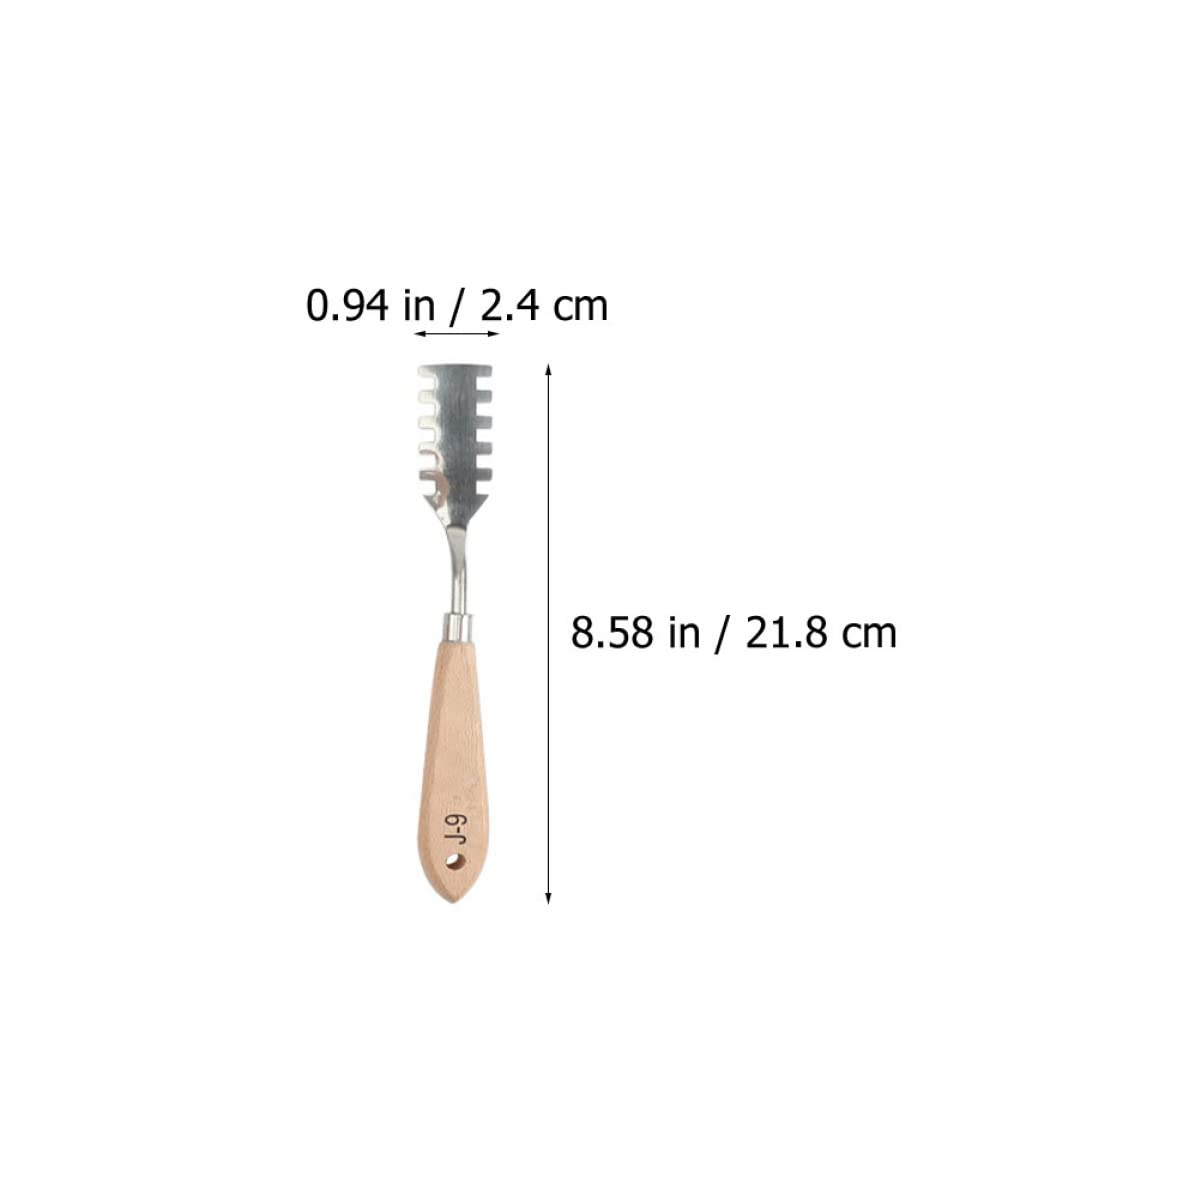/: (714, 615, 730, 655), (454, 287, 465, 328)
0.94: (307, 288, 434, 321)
2.4cm: (482, 288, 607, 321)
21.8: (747, 615, 827, 648)
8.58: (572, 615, 653, 649)
cm: (842, 622, 896, 648)
in: (401, 283, 438, 332), (670, 616, 699, 648)
